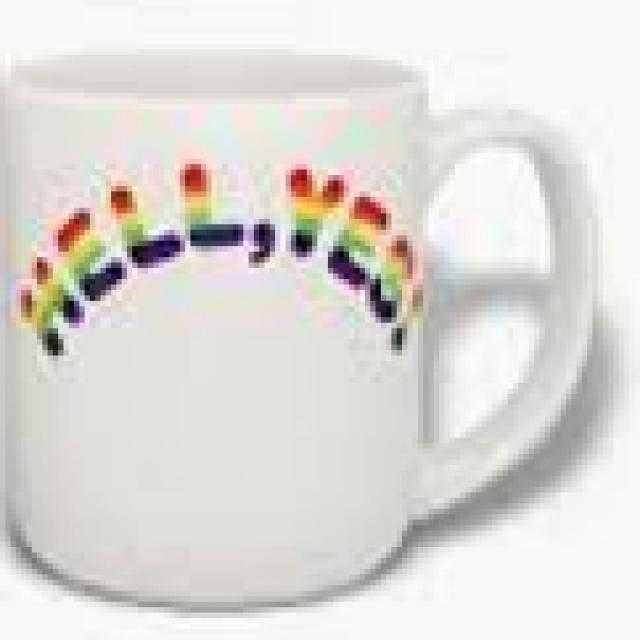taza: (0, 48, 601, 620)
